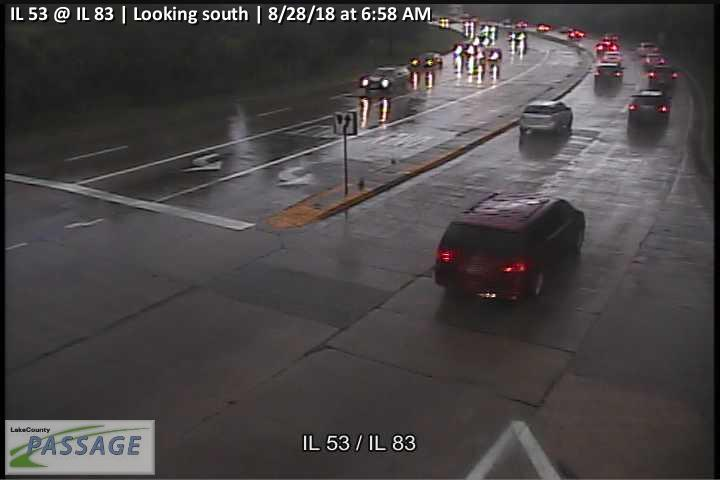SUV: (433, 191, 585, 307), (519, 101, 573, 138), (629, 91, 671, 123)
Sedan: (360, 66, 411, 91), (410, 52, 442, 70)
